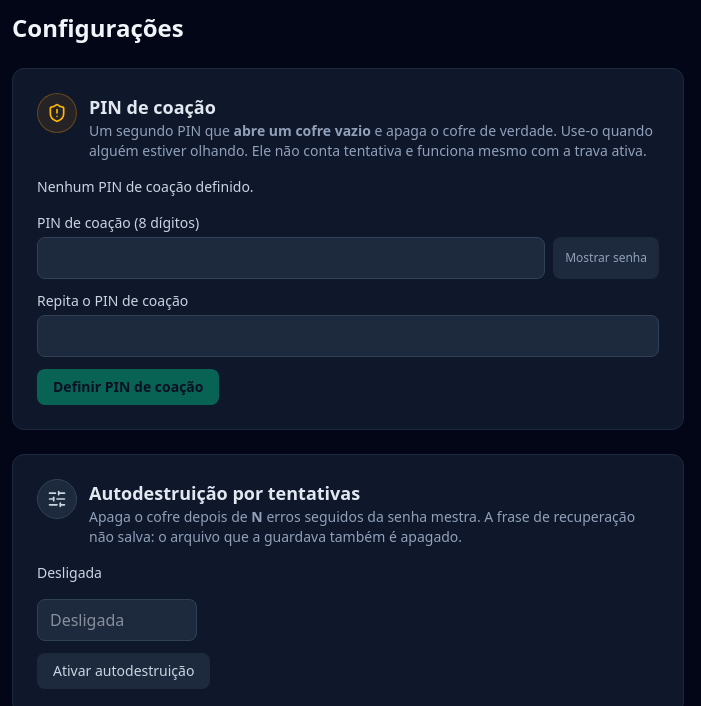
Configurações: autodestruição por tentativas › começa desligada e avisa antes de confirmar
expect the text "Desligada" is shown: met, box [37, 563, 102, 582]
Click the button "Ativar autodestruição" at (124, 671), box [37, 653, 210, 689]
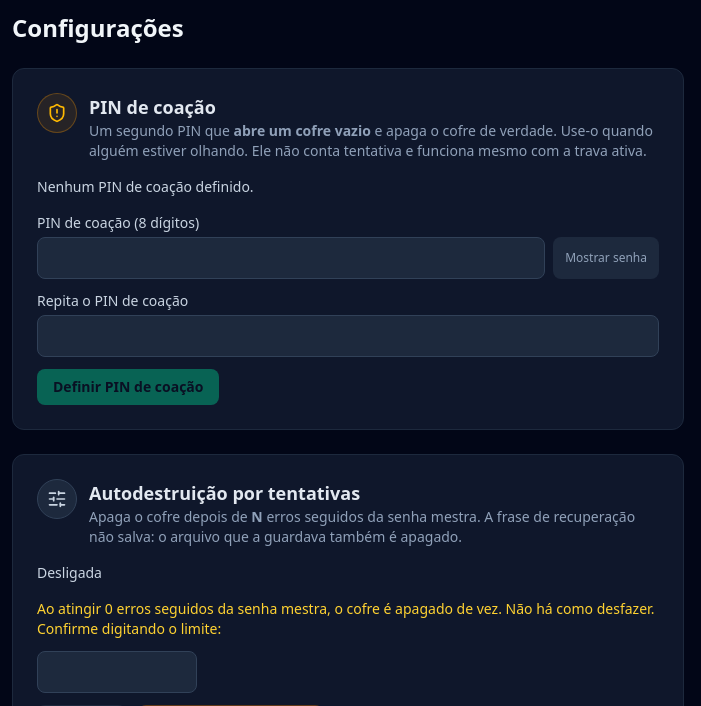
expect the text "não há como desfazer" is shown: met, box [37, 599, 654, 638]
